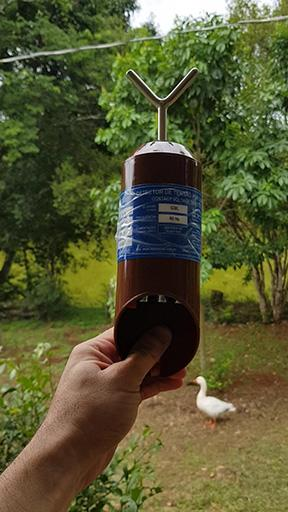Detector_Tensao_Contato: (115, 66, 199, 383)
